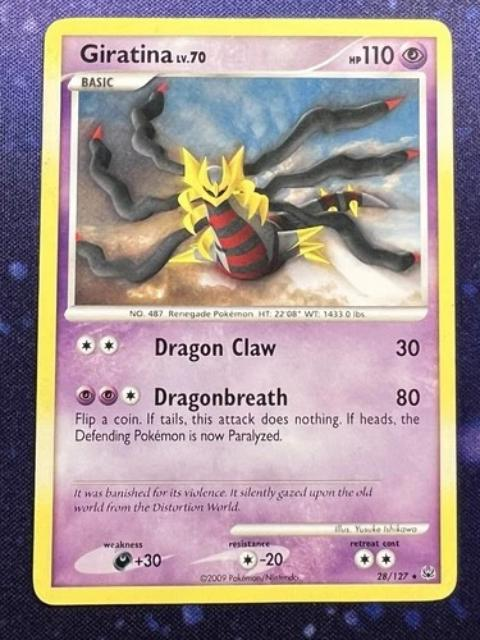Card: (28, 10, 457, 611)
Name: (72, 37, 168, 69)
